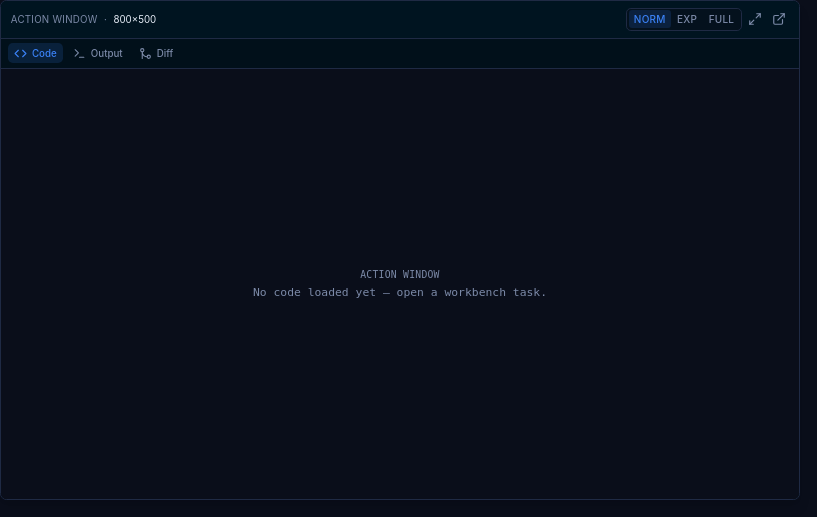
it: <ActionWindow /> › renders three tabs and switches the active panel on click
Expected: the tab with test id "action-window-tab-code" is shown, x1=8 y1=43 x2=63 y2=63
Expected: the tab with test id "action-window-tab-diff" is shown, x1=132 y1=43 x2=180 y2=63
Click the tab with test id "action-window-tab-output".
click(98, 53)  # box x1=66 y1=43 x2=129 y2=63
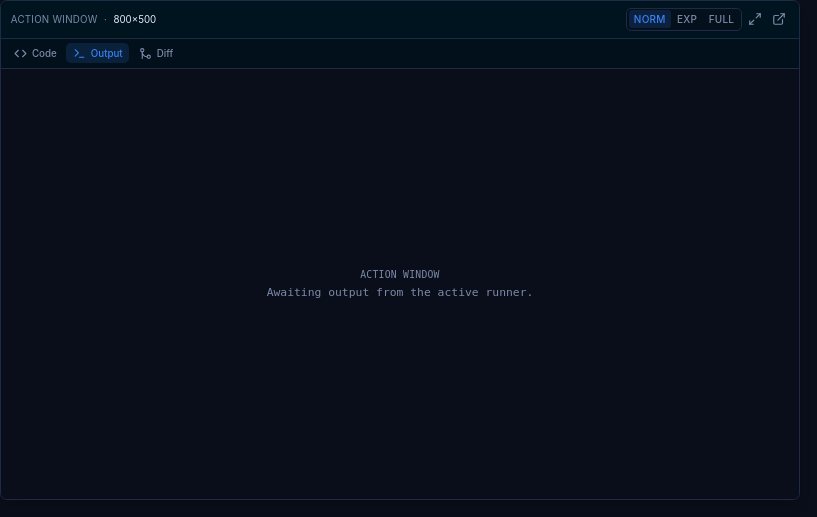
Now the element with test id "action-window-panel-output" is shown
Click the tab with test id "action-window-tab-diff".
click(156, 53)  # box x1=132 y1=43 x2=180 y2=63
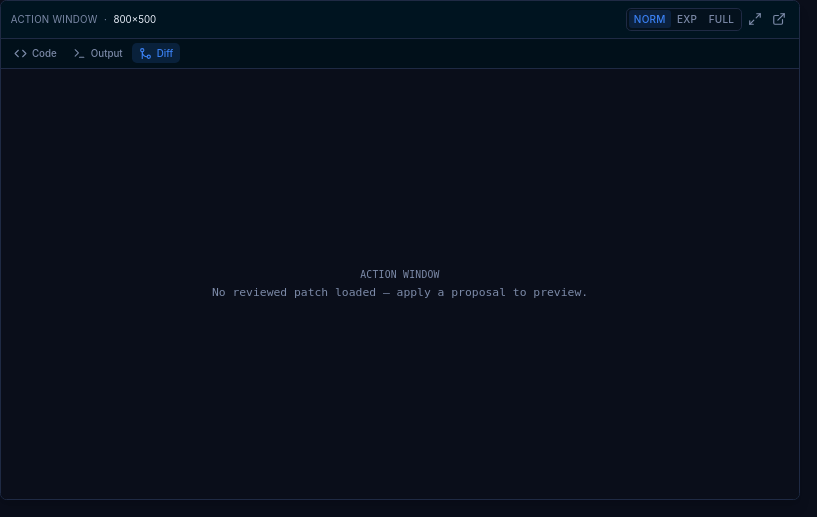
Now the element with test id "action-window-panel-diff" is shown
